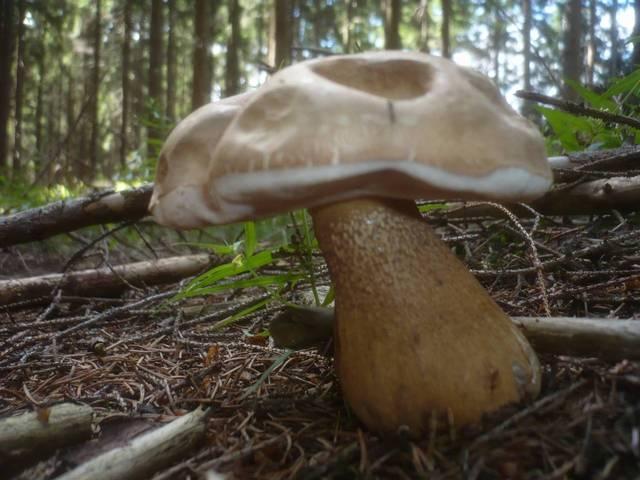poisonous_mushroom: (147, 47, 555, 440)
